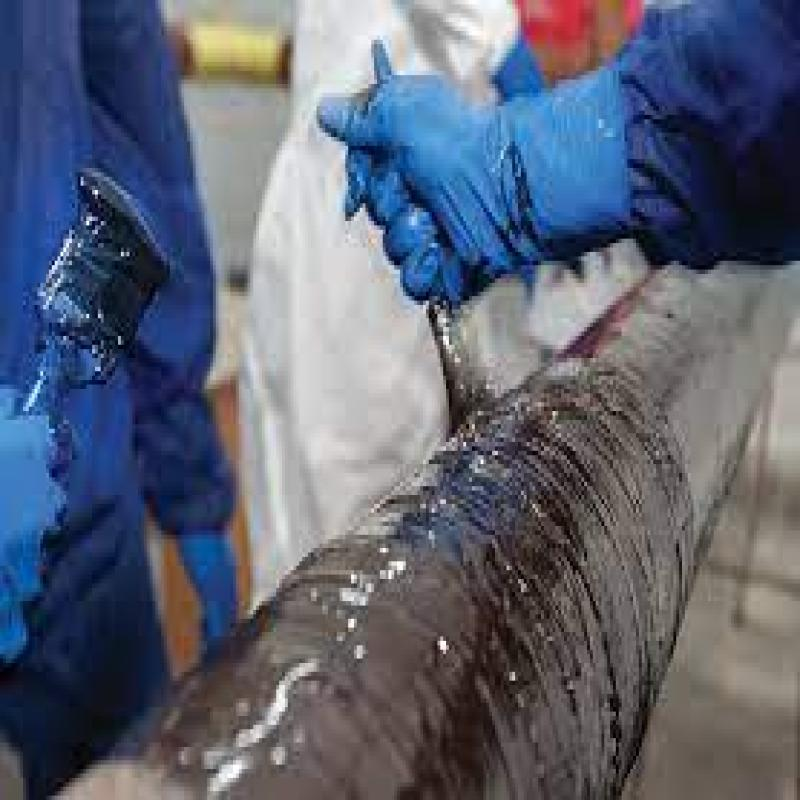Fracture: (343, 206, 559, 545)
